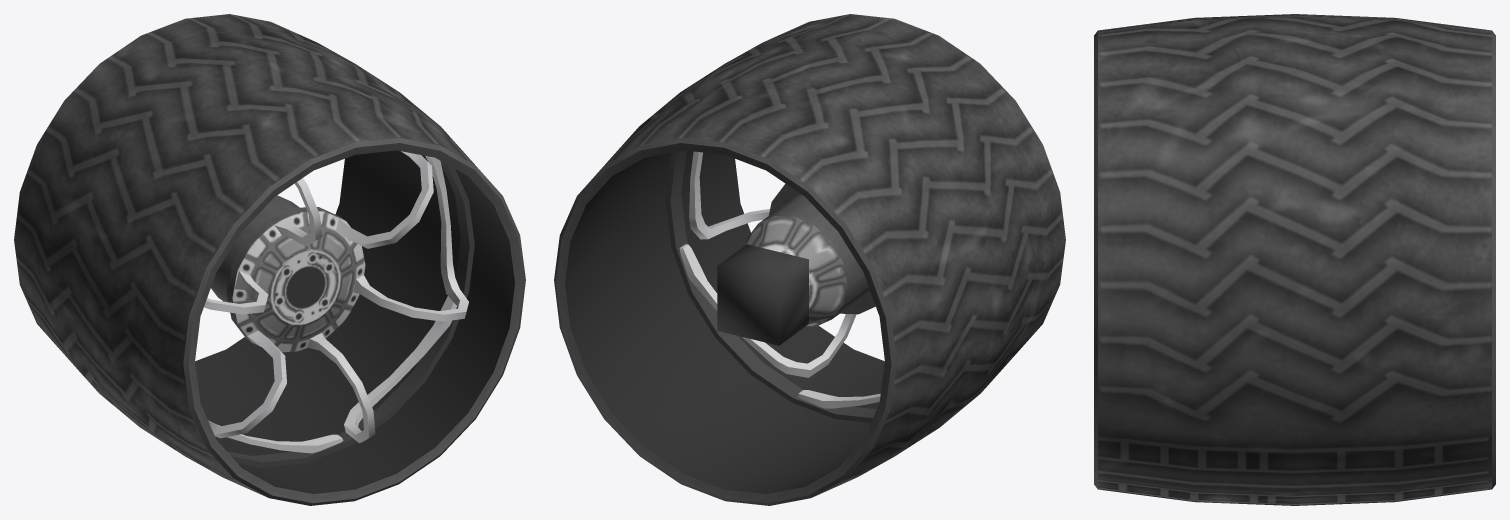
The model's file is wheel_front_right_link.dae.
3 renders of one model, left to right at view 1: azimuth 30°, elevation 25°; view 2: azimuth 150°, elevation 25°; view 3: azimuth 270°, elevation 25°, orthographic. The views are drawn at different scales.
Visible parts, largest first — view 1: wheel_front_right_link; view 2: wheel_front_right_link; view 3: wheel_front_right_link.
Boxes of the visible parts, bbox=[...] form: wheel_front_right_link: bbox=[14, 14, 525, 505]; wheel_front_right_link: bbox=[554, 14, 1065, 505]; wheel_front_right_link: bbox=[1094, 14, 1495, 505].
Size of the model in its own units: 0.4853 by 0.3947 by 0.4853.
1 material, 1 textured.
